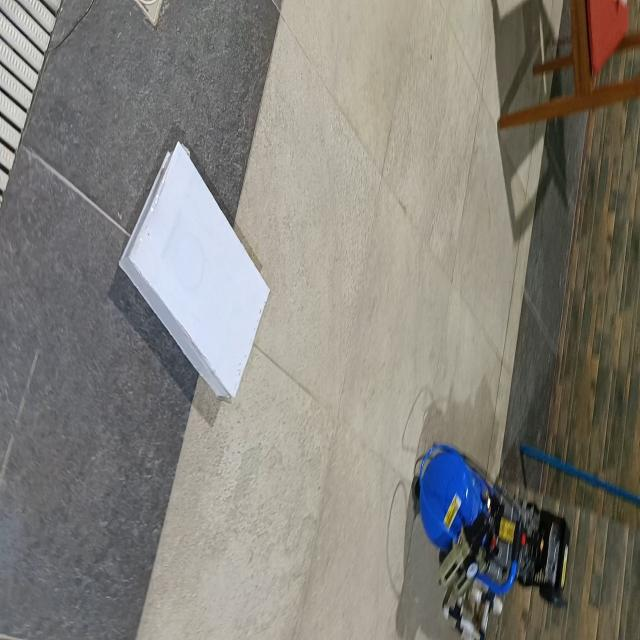Cuboid: (117, 138, 271, 402)
